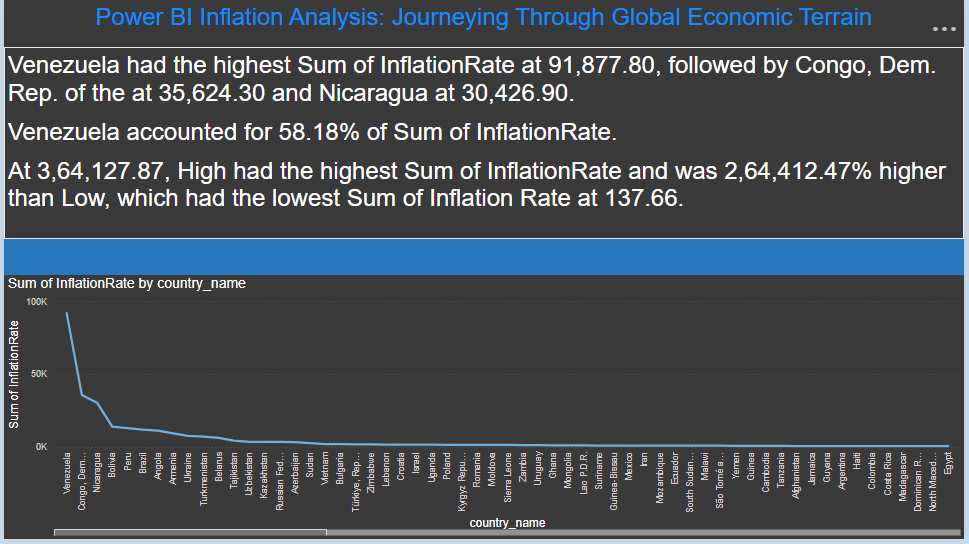

The dashboard page shown, as its layout file describes it:
{"tool":"powerbi","page":{"name":"Page 3","canvas":[1280,720],"ordinal":2},"visuals":[{"type":"lineChart","fields":{"Y":["Sum(global_inflation_data.InflationRate)"],"Category":["global_inflation_data.country_name"]},"box":[0,368,1280,352],"z":0},{"type":"textbox","box":[0,0,1280,64],"z":1000},{"type":"textbox","box":[0,64,1280,256],"z":2000}]}

Visuals, with their boxes in screenshot pixels (x1, y1, x2, y2), scaled from the page's 1280x720 canvas onto the 969x544 screenshot:
lineChart - Sum(global_inflation_data.InflationRate) x global_inflation_data.country_name: pyautogui.locateOnScreen(0, 278, 968, 543)
textbox: pyautogui.locateOnScreen(0, 0, 968, 48)
textbox: pyautogui.locateOnScreen(0, 48, 968, 242)
